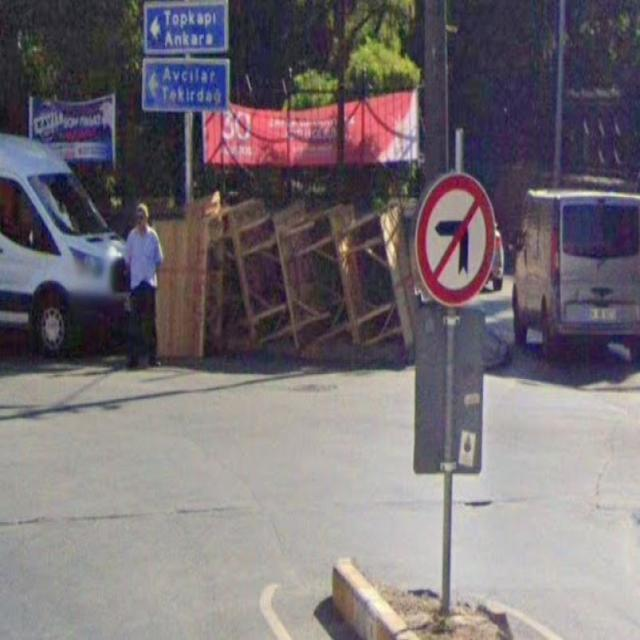soladonulmez: (415, 171, 496, 301)
